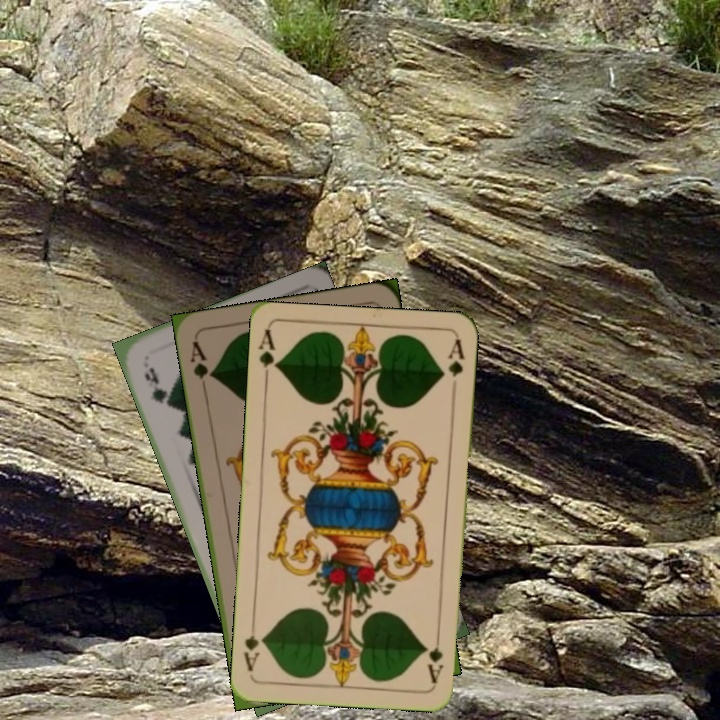G9: (140, 362, 172, 409)
GA: (186, 337, 216, 395), (255, 326, 282, 386), (424, 626, 446, 685)
